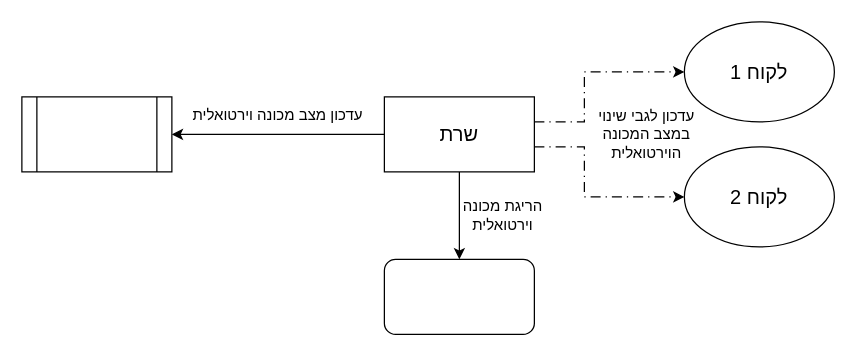
Image size: 856x356. Some labels were removed from this diagram. Here are the shapes that lost their labels. From the top down, the centre of each, then its label:
At [96,134]: "מסד נתונים".
At [458,296]: "מכונה וירטואלית".
